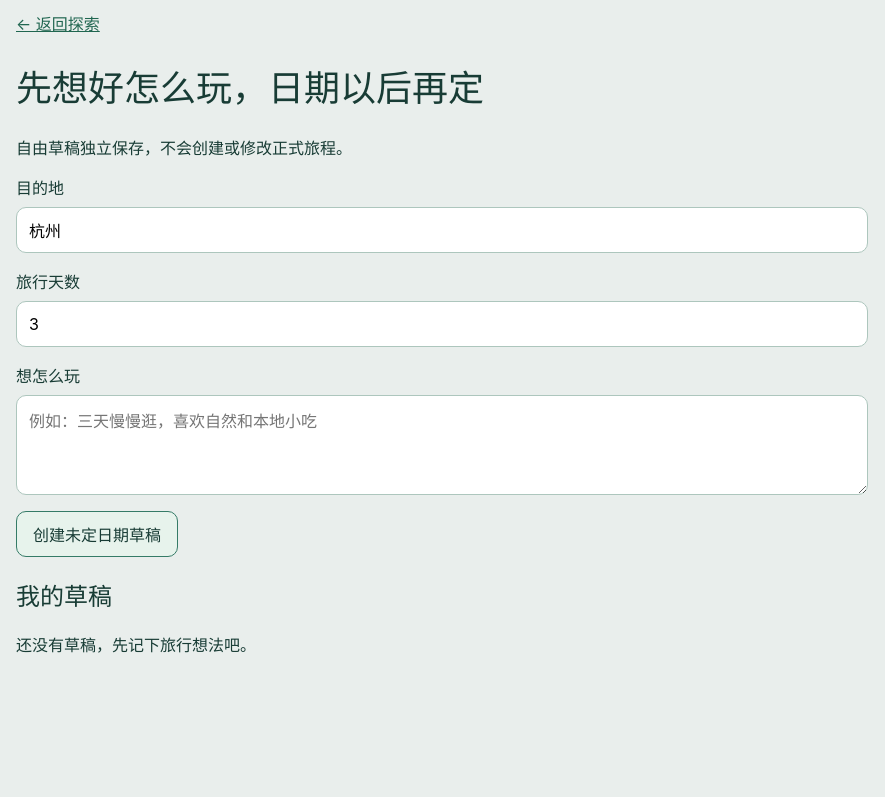
Test: creates an undated draft and opens its editor without a Trip request
The width and height of the screenshot is (885, 797).
Click the button "创建未定日期草稿" at (97, 534), box x1=16 y1=511 x2=178 y2=557
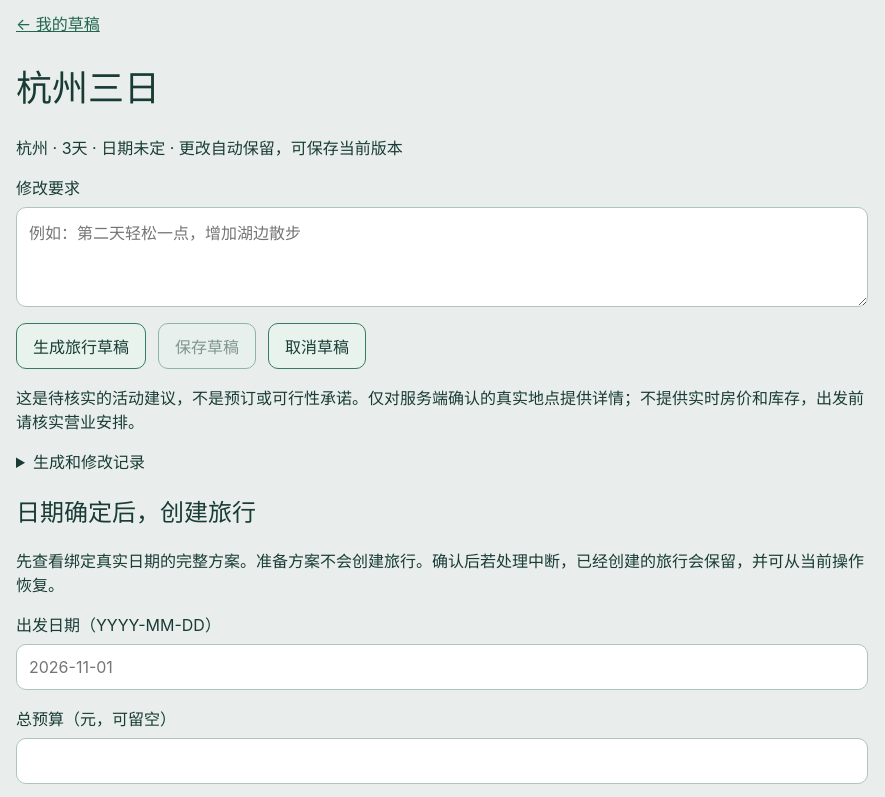
Check: the heading "杭州三日" is shown, box x1=16 y1=66 x2=160 y2=110
